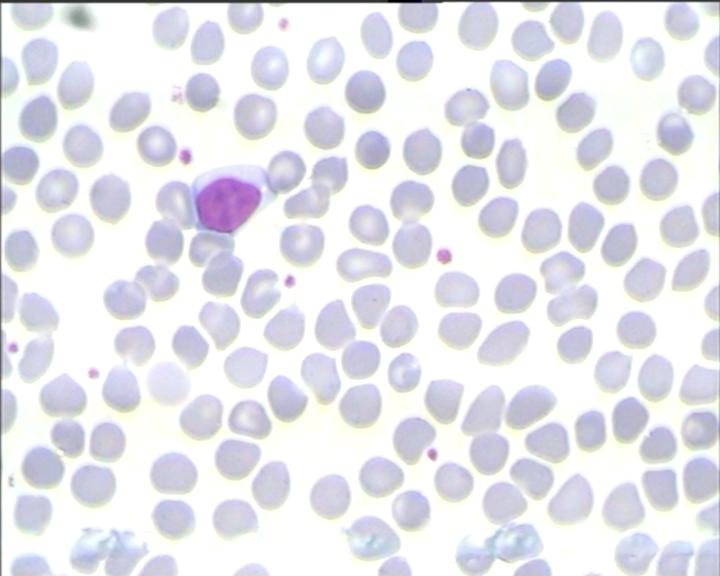lymp: (188, 162, 278, 234)
